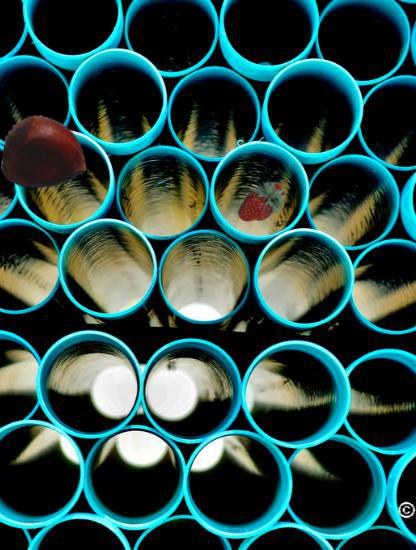Chestnut: (3, 110, 90, 197)
Strawberry: (236, 177, 291, 232)
